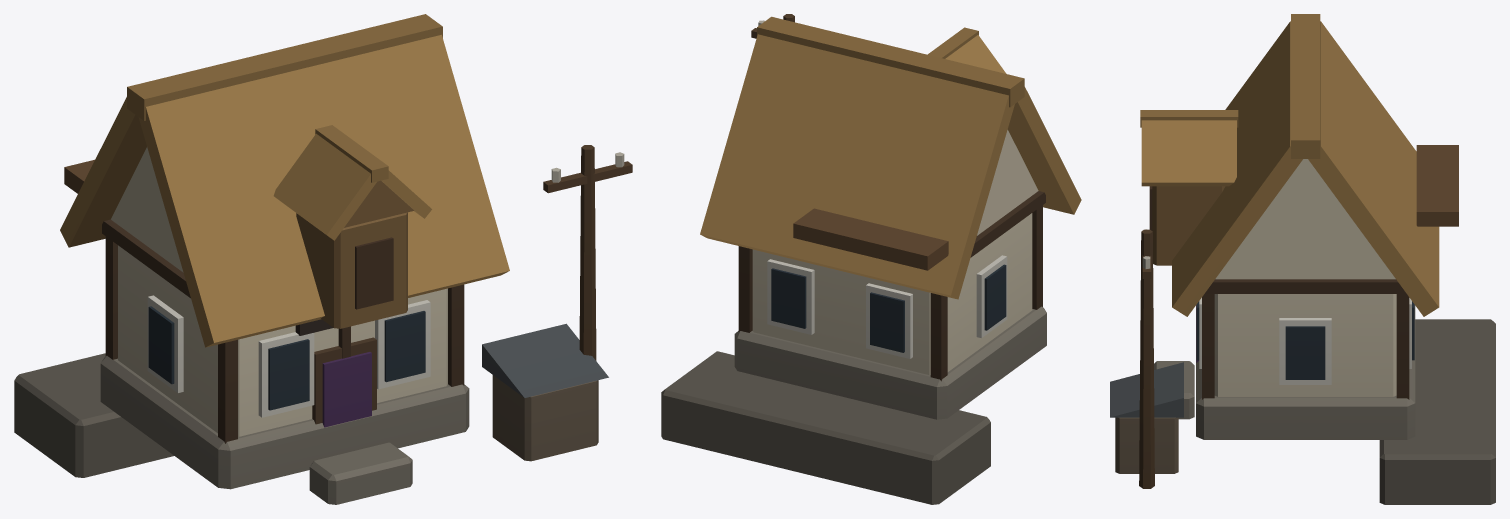
The model's file is watermill.glb.
The picture shows the model from 3 angles, left to right: view 1: azimuth 30°, elevation 25°; view 2: azimuth 150°, elevation 25°; view 3: azimuth 270°, elevation 25°; orthographic projection. The views are drawn at different scales.
Parts seen in each view (by area): view 1: watermill_model; view 2: watermill_model; view 3: watermill_model.
Boxes of the visible parts, bbox=[...] form: watermill_model: bbox=[14, 14, 632, 504]; watermill_model: bbox=[661, 14, 1081, 504]; watermill_model: bbox=[1110, 14, 1495, 504].
Bounding box in the file's own units: 0.7739 × 0.7332 × 0.7151.
